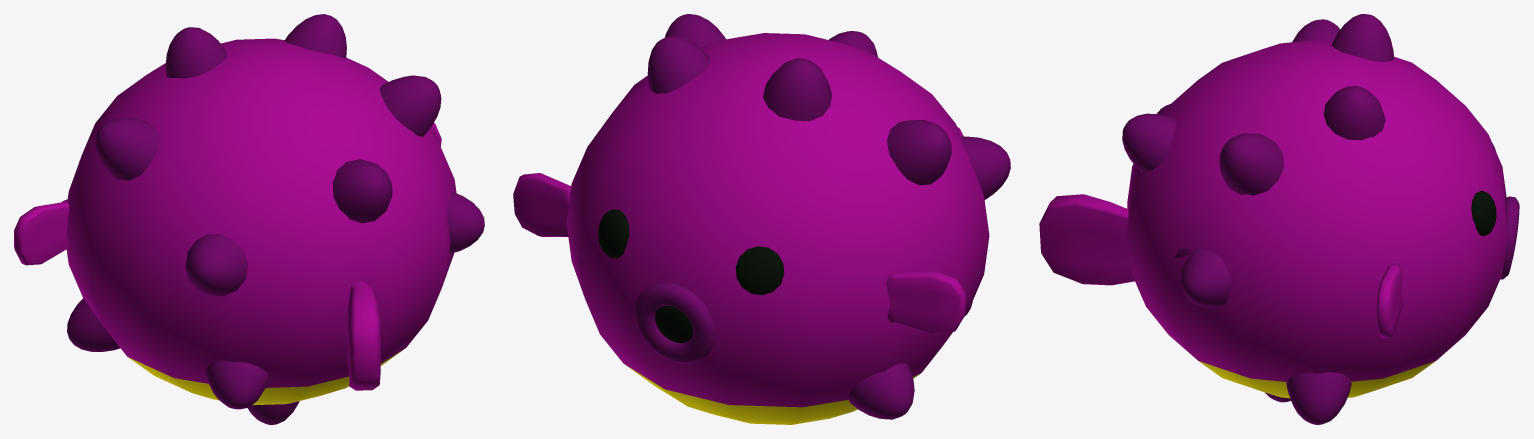
The model's file is EnemyNatureFishBall.fbx.
3 views of the same model, side by side, from view 1: azimuth 30°, elevation 25°; view 2: azimuth 150°, elevation 25°; view 3: azimuth 270°, elevation 25° (orthographic). The views are drawn at different scales.
Visible parts, largest first — view 1: polySurface6, polySurface5, polySurface3; view 2: polySurface6, polySurface3, polySurface1; view 3: polySurface6, polySurface5, polySurface1.
Boxes of the visible parts, x1=… form: polySurface6: x1=66, y1=14, x2=484, y2=424; polySurface5: x1=347, y1=281, x2=380, y2=390; polySurface3: x1=14, y1=199, x2=69, y2=265; polySurface6: x1=566, y1=14, x2=1010, y2=424; polySurface3: x1=886, y1=271, x2=965, y2=333; polySurface1: x1=513, y1=173, x2=571, y2=236; polySurface6: x1=1122, y1=14, x2=1519, y2=424; polySurface5: x1=1039, y1=194, x2=1134, y2=285; polySurface1: x1=1376, y1=263, x2=1402, y2=338.
Bounding box in the file's own units: 2.46 × 2.07 × 2.46.
